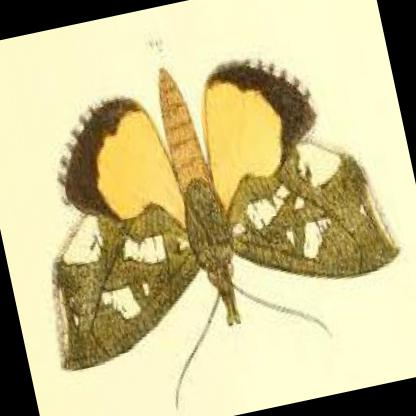fruit sucking moth: (53, 62, 402, 370)
